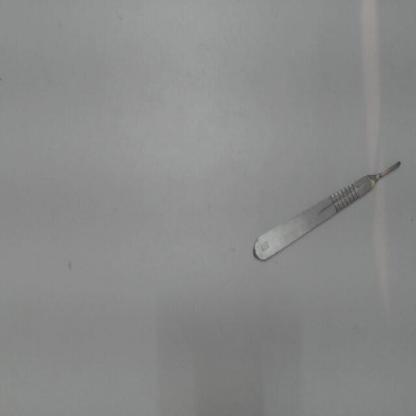No.3 BP Handle: (242, 145, 408, 281)
